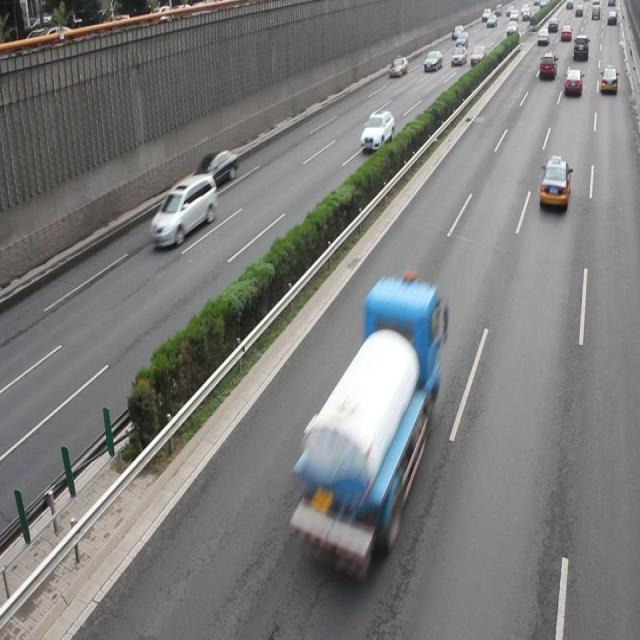bus: (292, 276, 439, 556)
car: (538, 156, 570, 208), (194, 149, 238, 185), (359, 108, 394, 153)
truck: (149, 173, 217, 247)
